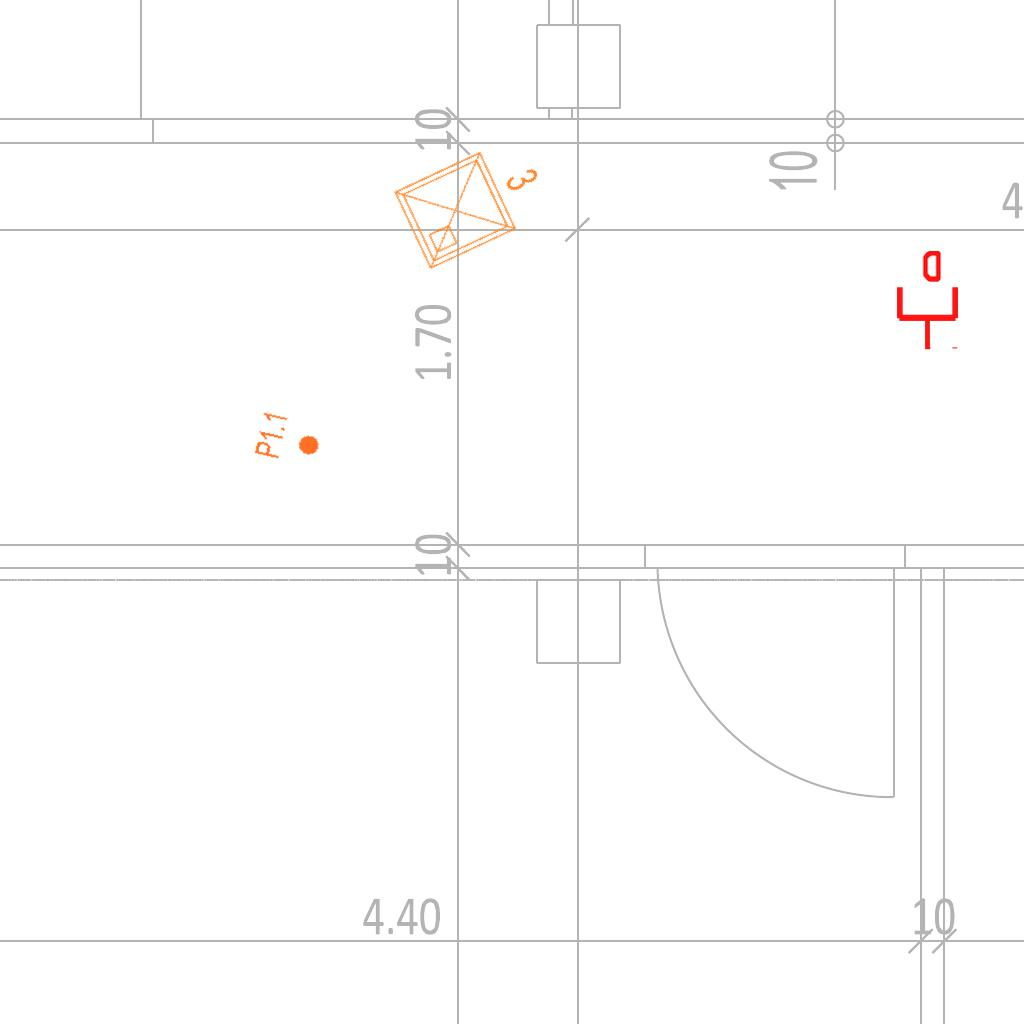Datenanschluss_einfach: (893, 251, 962, 351)
Downlight_LED_Einbauleuchten_Flur: (252, 409, 326, 469)
Einbaudownlights_LED_Konferenzraeume: (383, 121, 563, 279)
